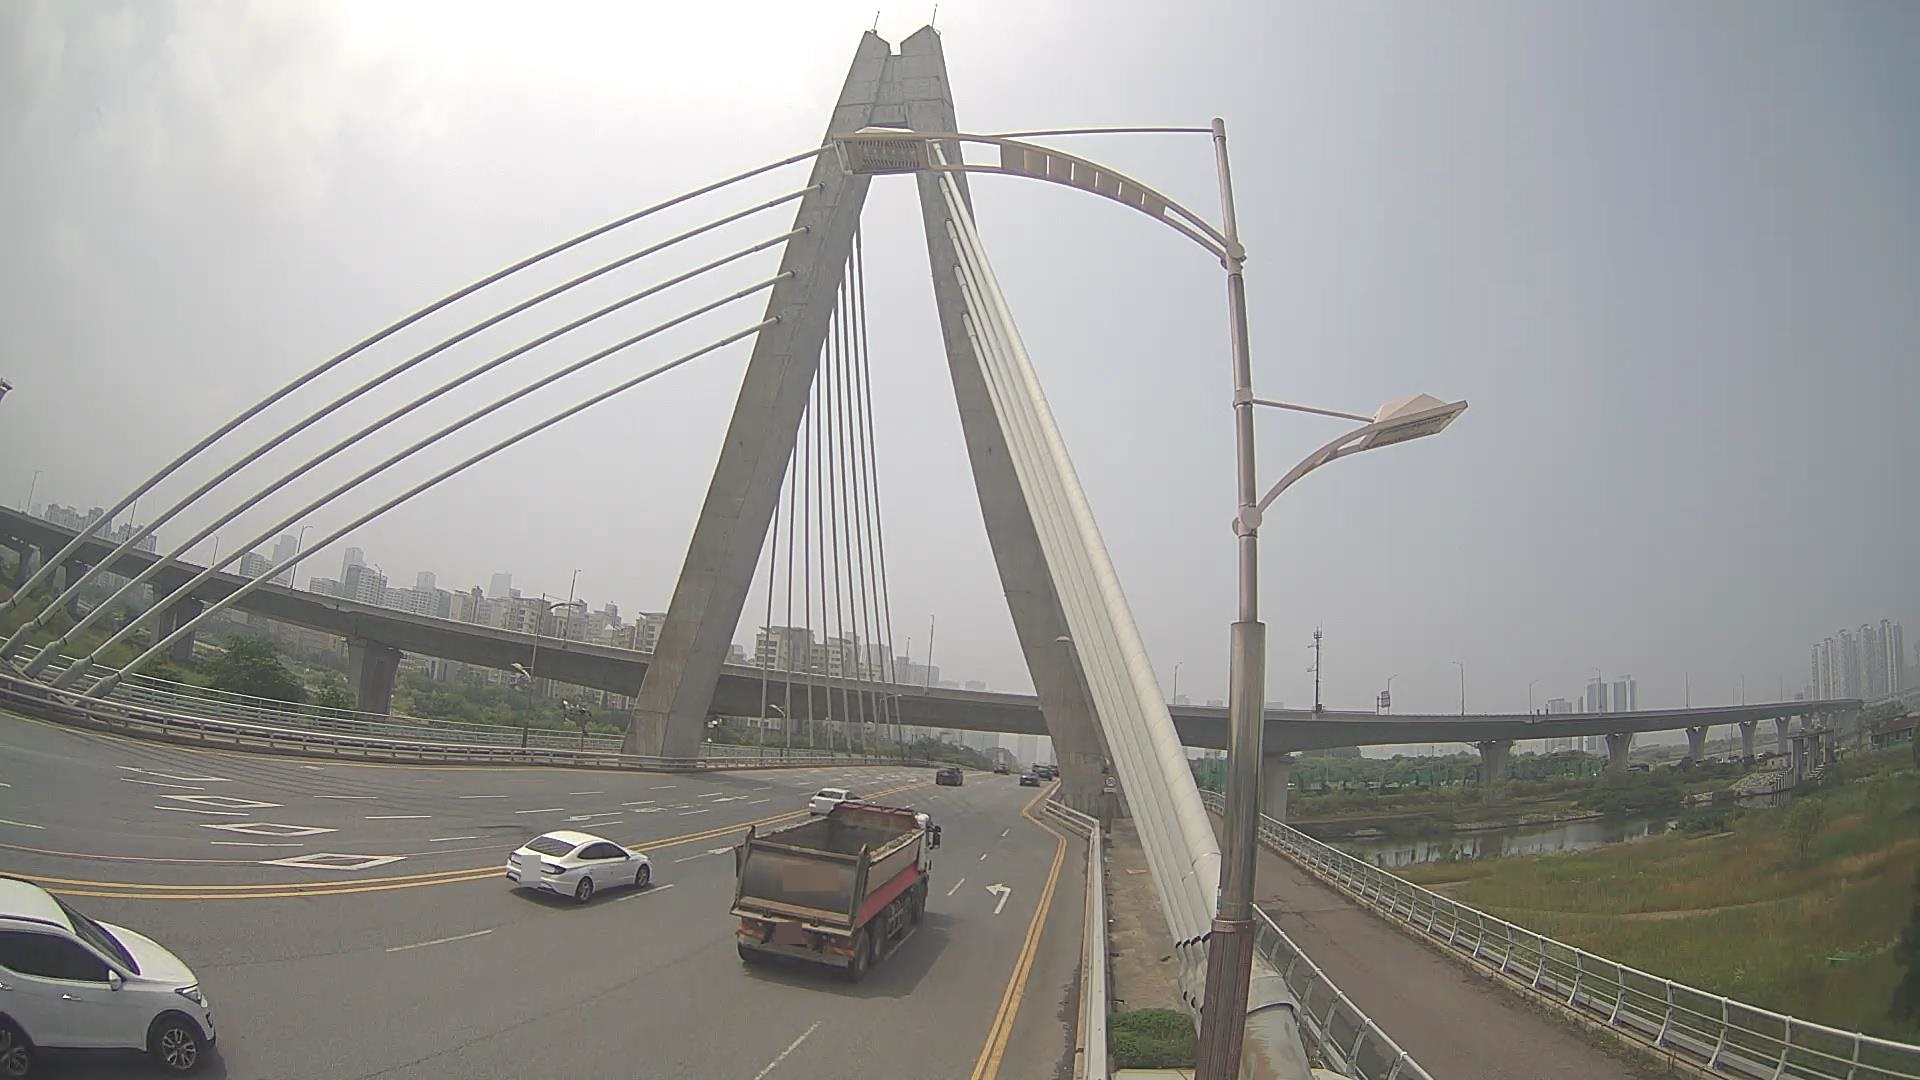정상차량: (729, 800, 943, 982)
